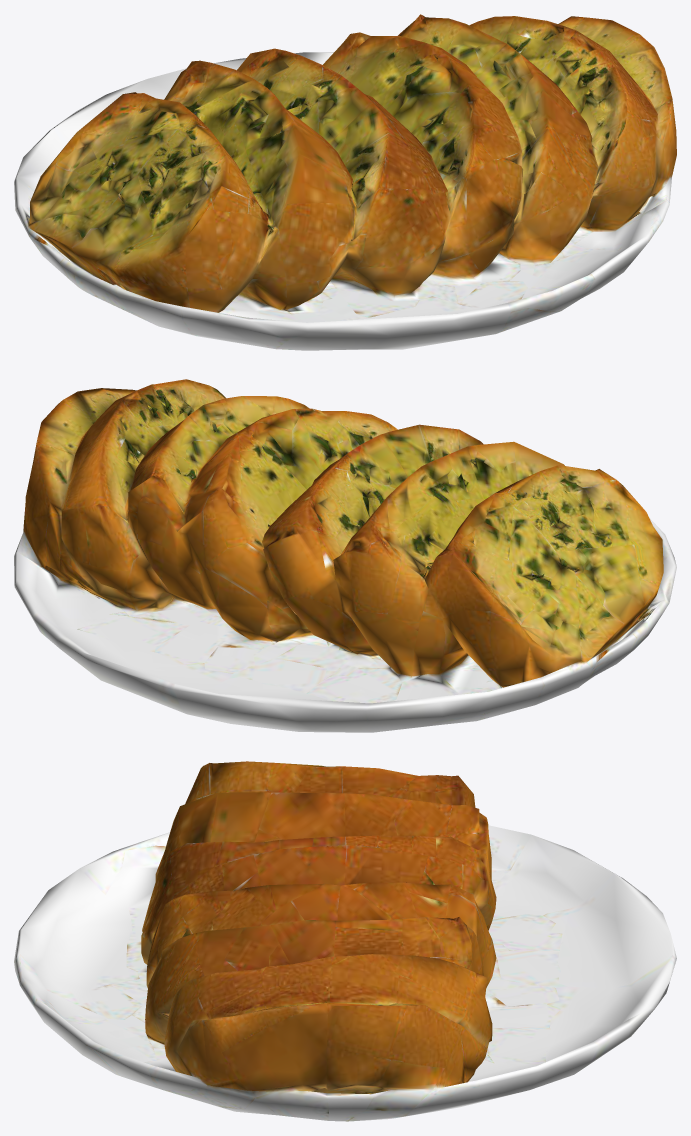
File: garlic-bread-sv.glb
3 views of the same model, one above another, from view 1: azimuth 30°, elevation 25°; view 2: azimuth 150°, elevation 25°; view 3: azimuth 270°, elevation 25° (orthographic).
Parts seen in each view (by area): view 1: mesh_node; view 2: mesh_node; view 3: mesh_node.
Boxes of the visible parts, x1,y1,x2,y2 form: mesh_node: (14, 14, 676, 350); mesh_node: (14, 379, 676, 732); mesh_node: (14, 761, 676, 1121).
Size of the model in its own units: 0.0337 by 0.00914 by 0.0327.
1 material, 1 textured.
